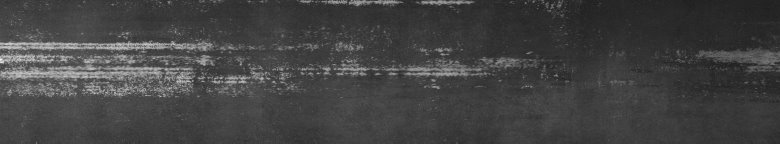kb: (4, 29, 104, 97)
